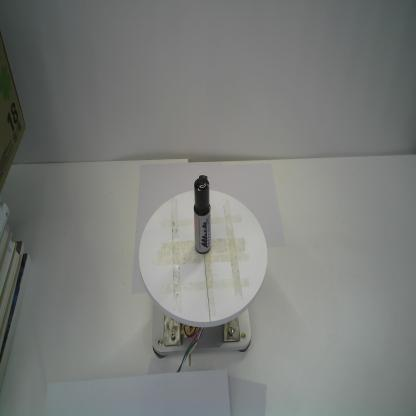Stationery: (193, 174, 212, 254)
